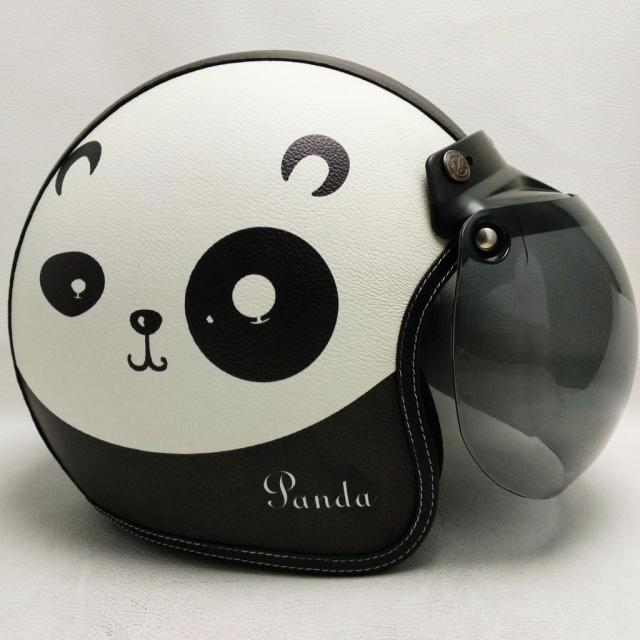Helm: (5, 44, 640, 580)
